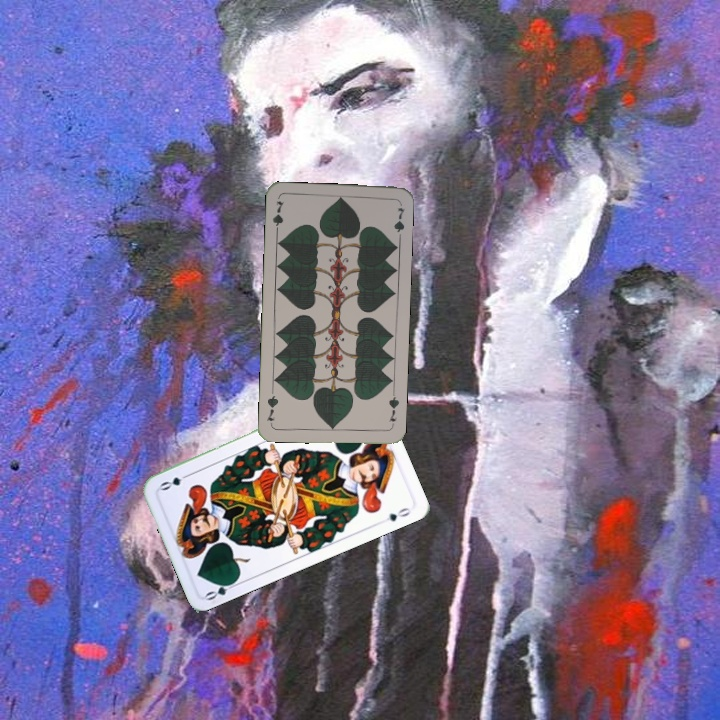G7: (268, 197, 286, 237), (385, 389, 402, 430)
GO: (202, 576, 241, 603)
